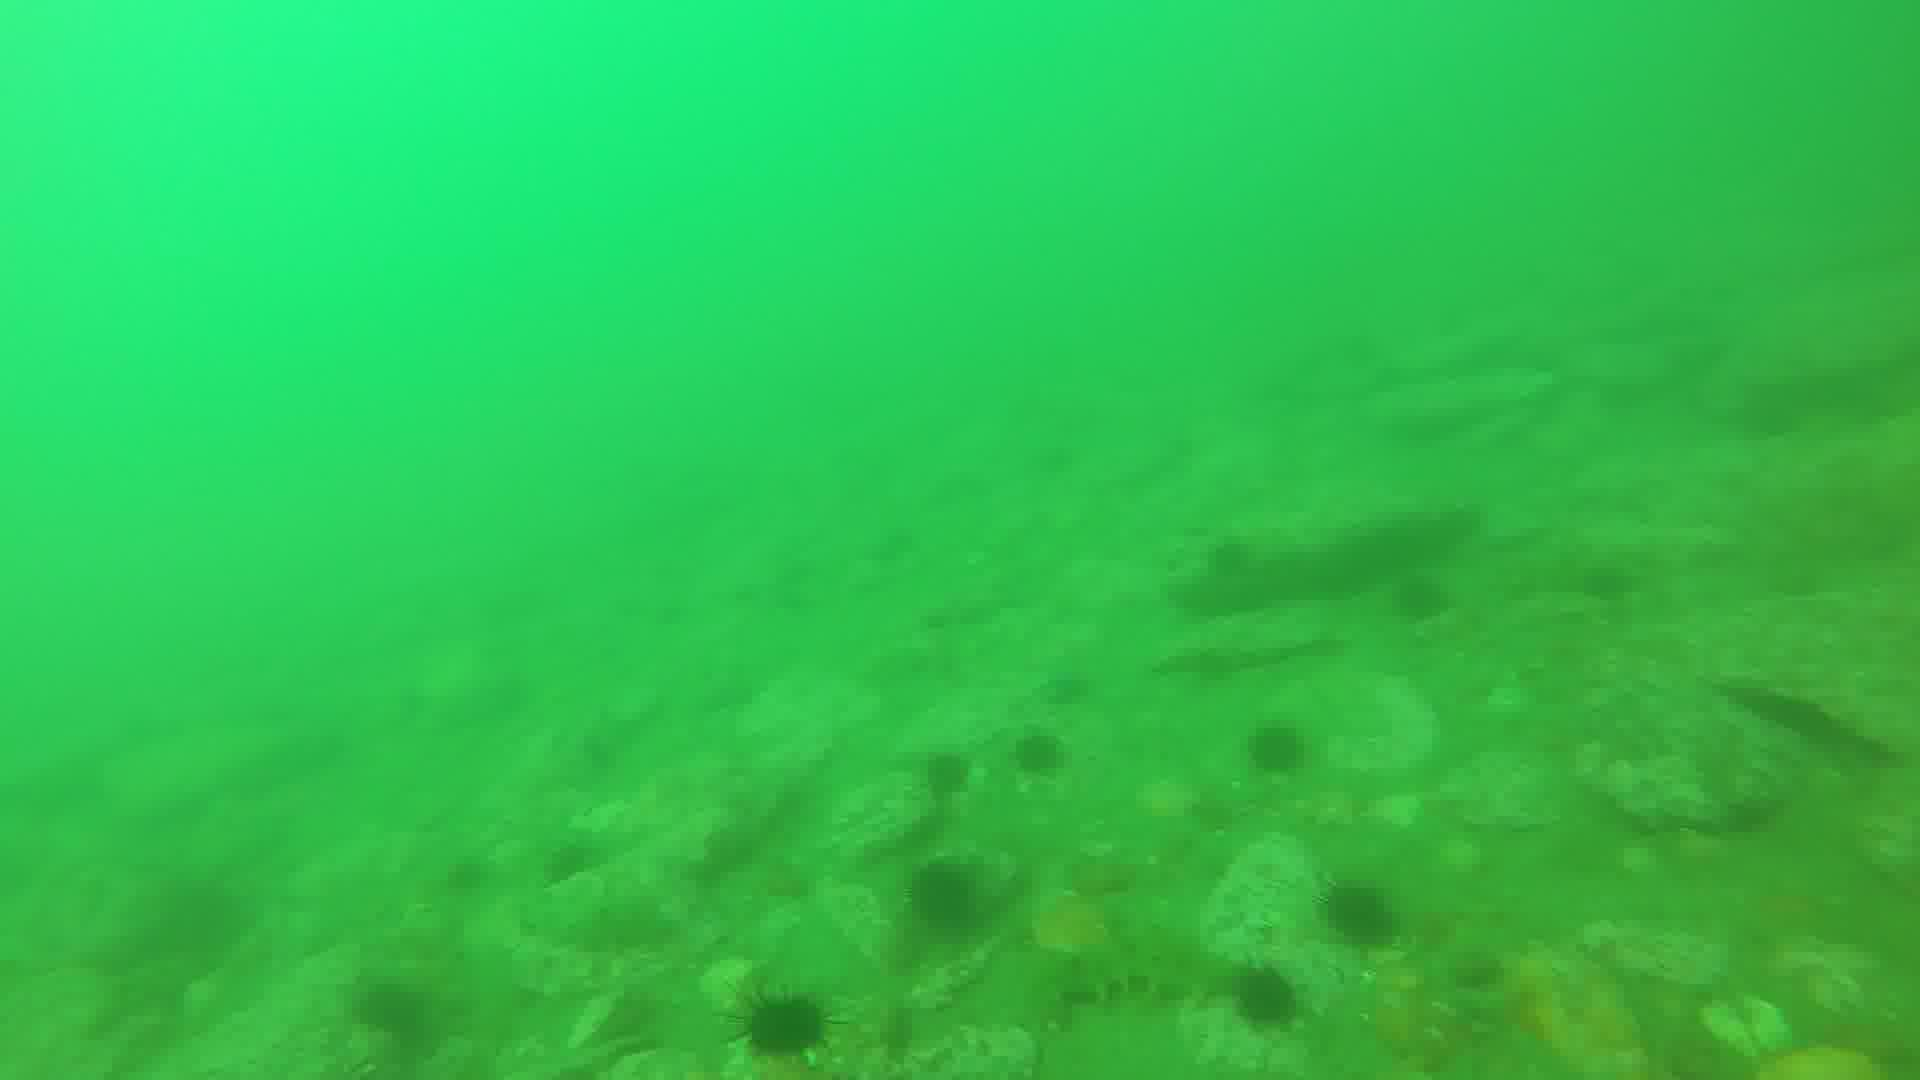echinus: (731, 990, 831, 1063), (915, 870, 992, 934), (353, 978, 430, 1040), (1236, 969, 1312, 1021), (535, 843, 599, 905), (1324, 885, 1396, 939), (1245, 719, 1311, 777), (1390, 572, 1457, 626), (1011, 728, 1081, 773), (915, 757, 978, 804), (444, 864, 495, 899)
holothurian: (1058, 949, 1233, 1002)
